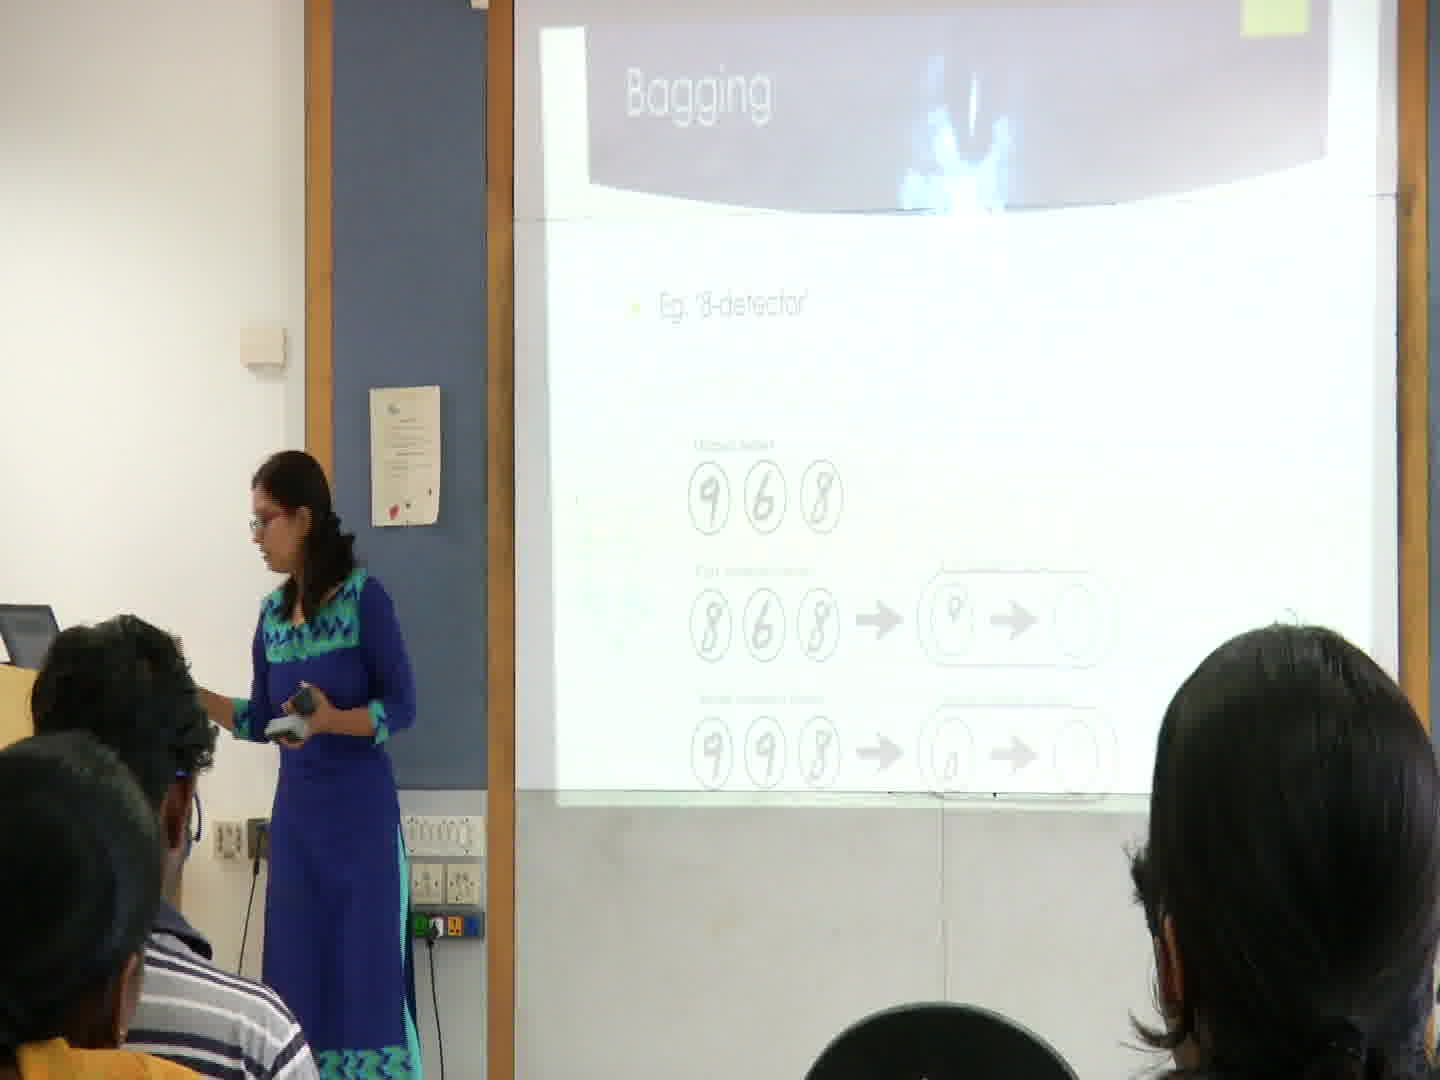fig: (683, 458, 849, 795), (914, 697, 1129, 810), (856, 728, 904, 775)
